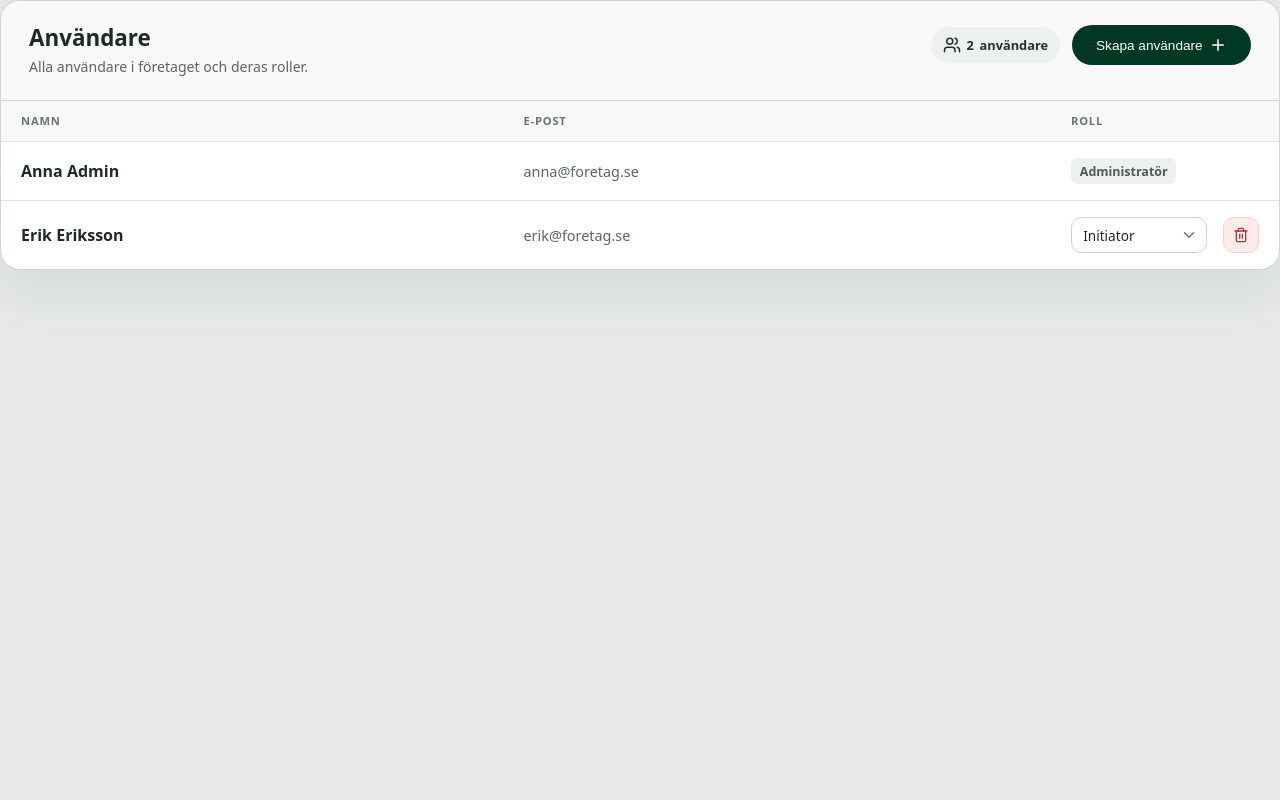
Test: UserList › deleting › deletes the user, refreshes the list and closes the modal on confirm
Click the button named "Ta bort Erik Eriksson" at {"x": 1241, "y": 235}, box left=1223, top=217, right=1259, bottom=253
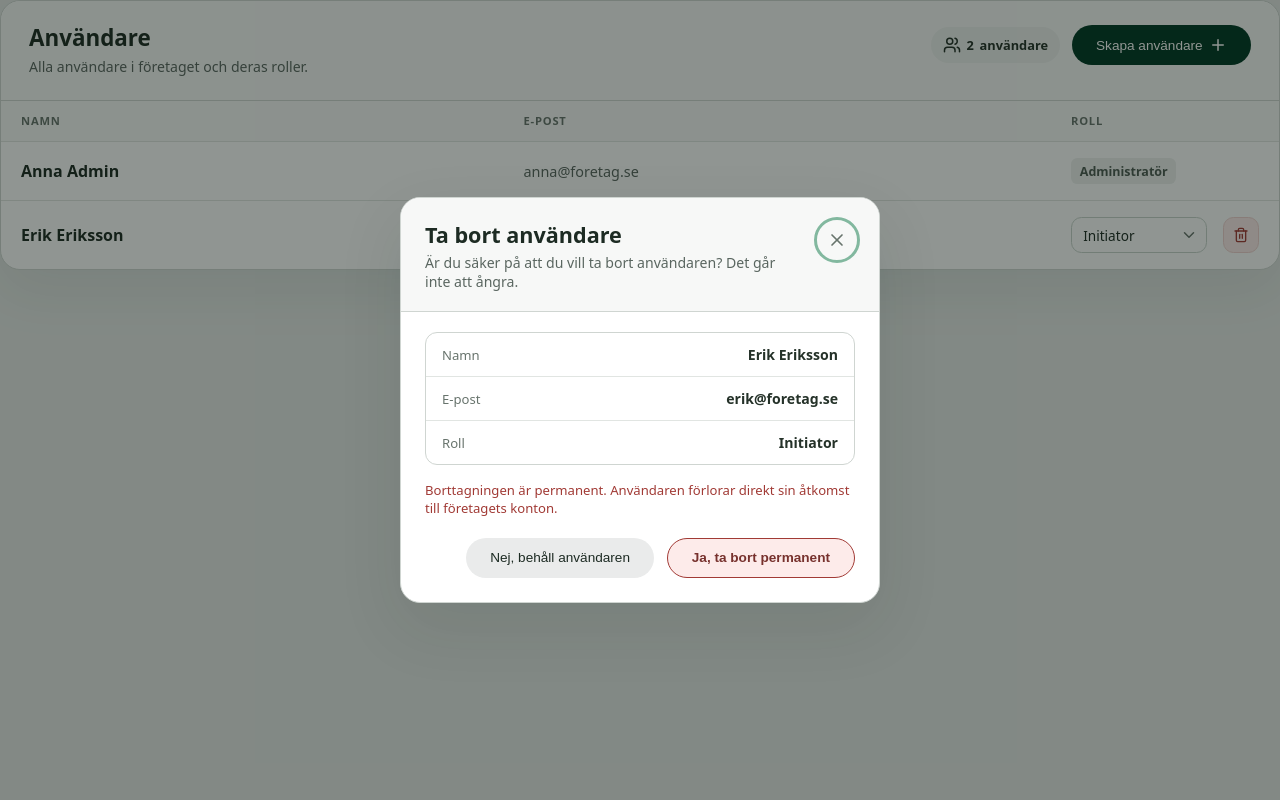
Click the button "Ja, ta bort permanent" at {"x": 761, "y": 558}, box left=667, top=538, right=855, bottom=578
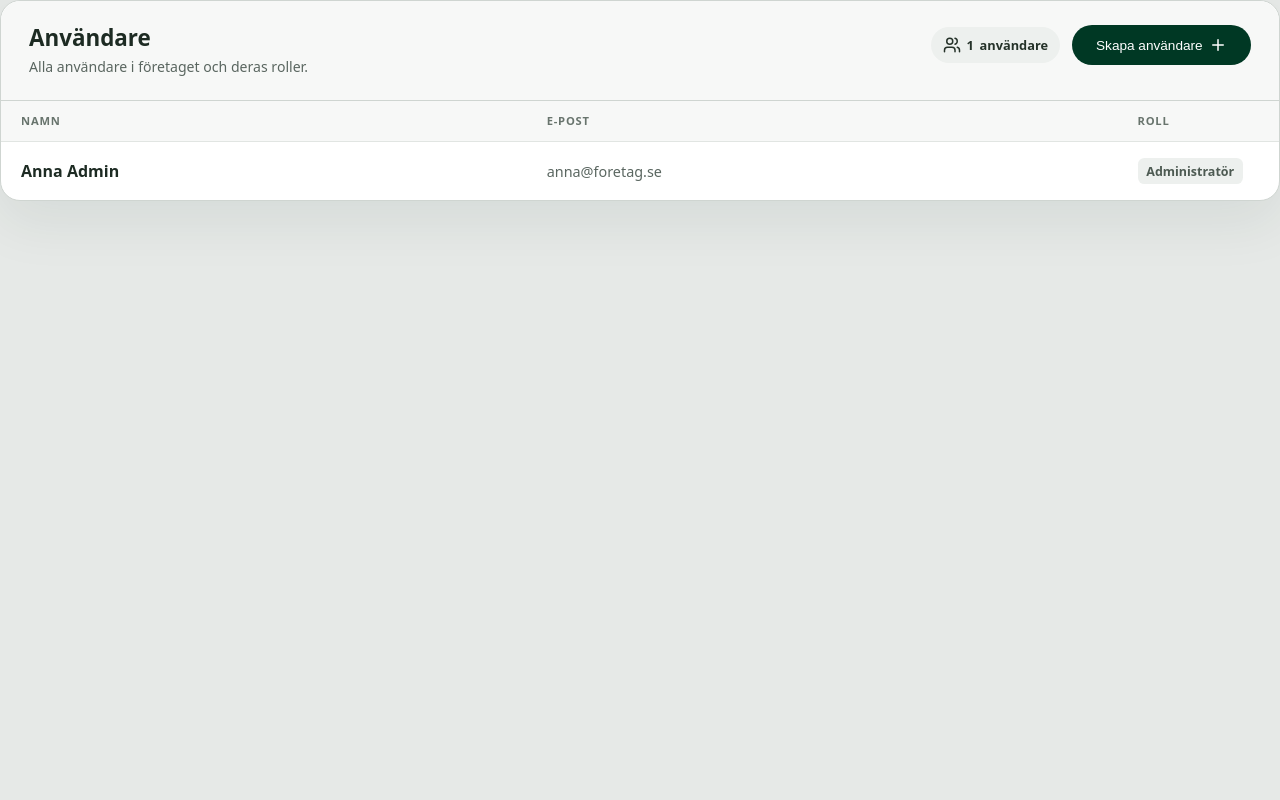
Expected: the heading "Användare" is shown, left=29, top=22, right=151, bottom=53
Result: the dialog is gone
Result: the text "Erik Eriksson" is gone
